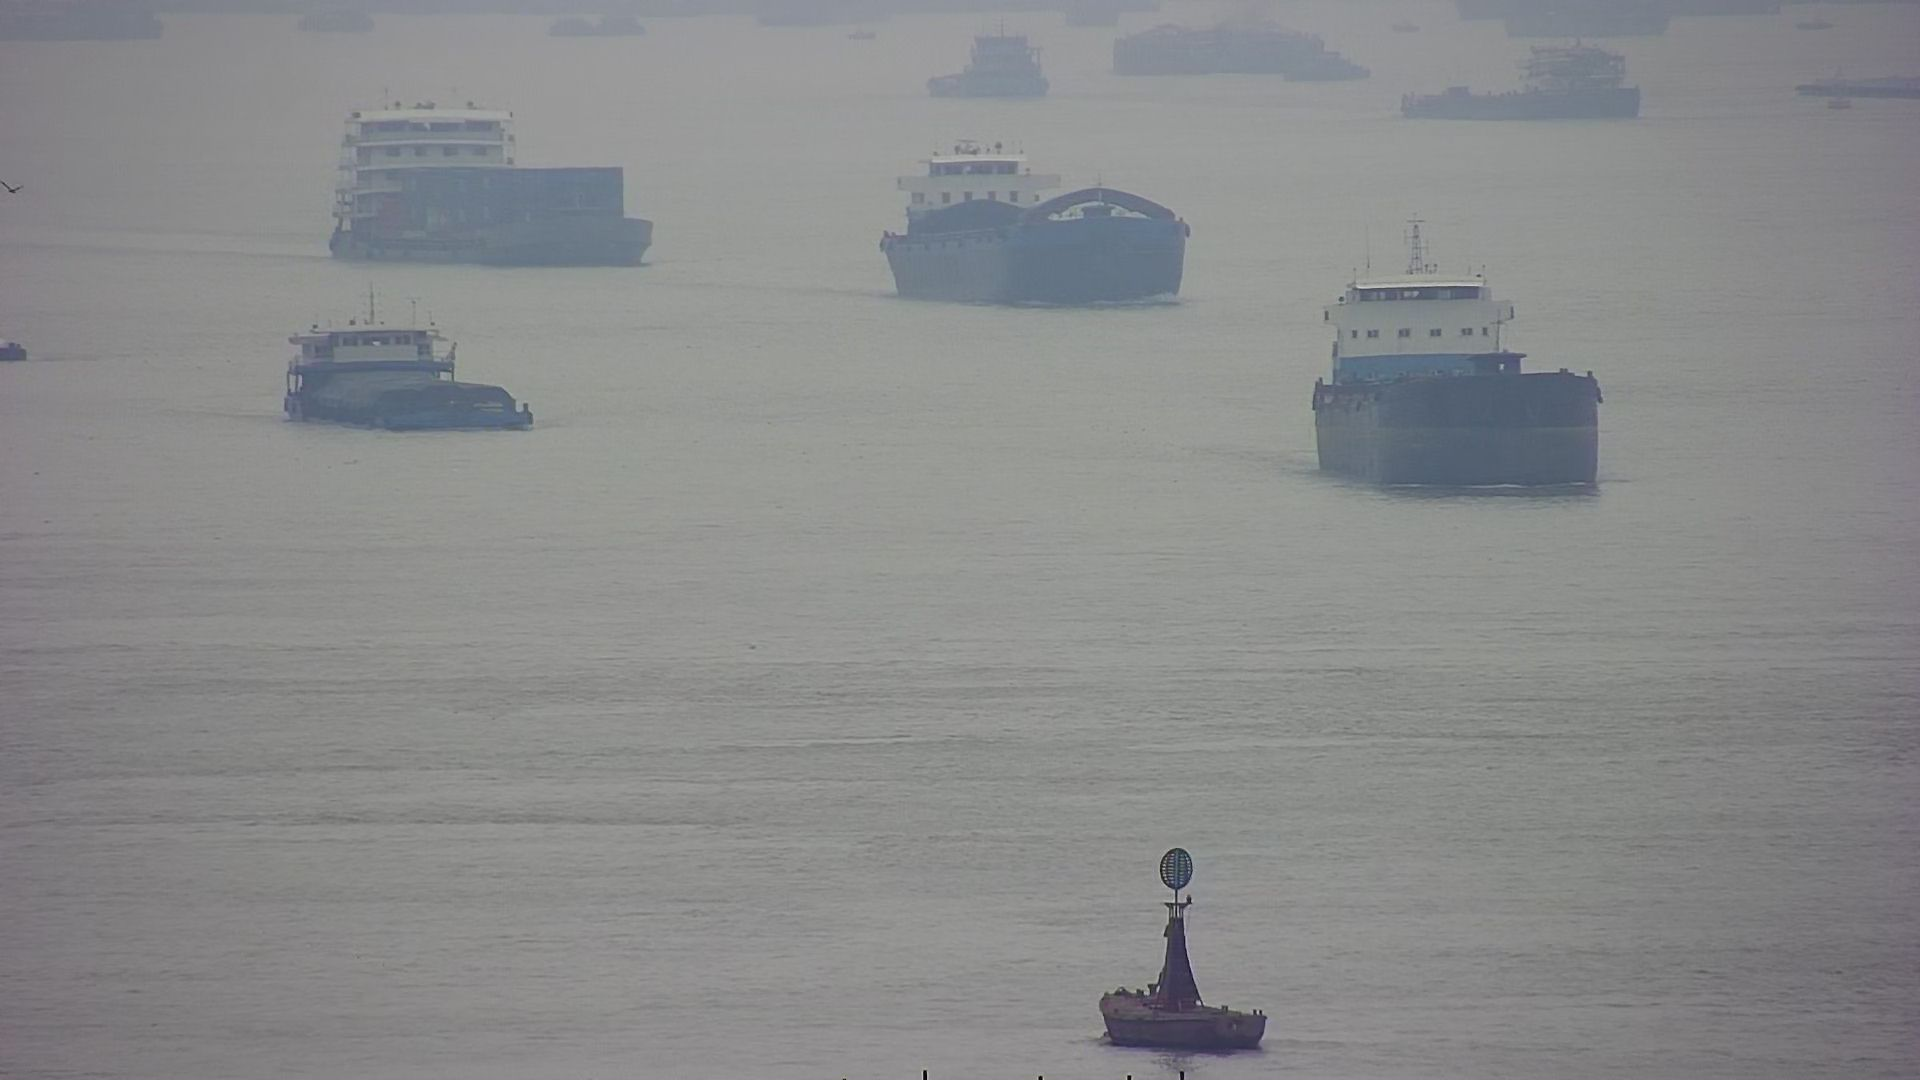boat: (1101, 851, 1269, 1052)
ship: (1303, 237, 1604, 496), (316, 90, 650, 272), (885, 142, 1192, 305), (284, 301, 533, 433)
